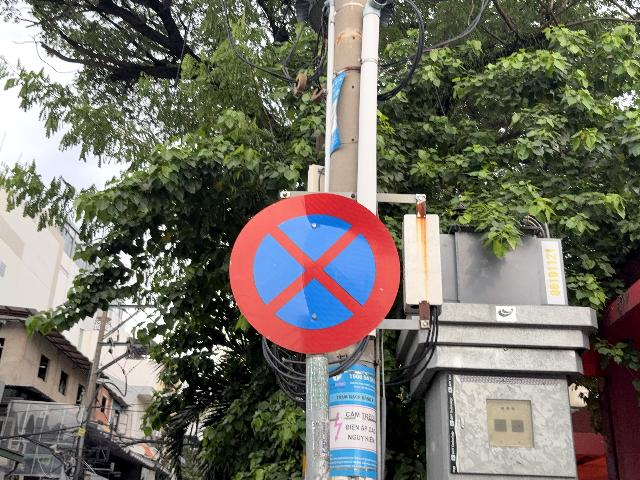cam-dung-va-do-xe: (229, 193, 399, 355)
